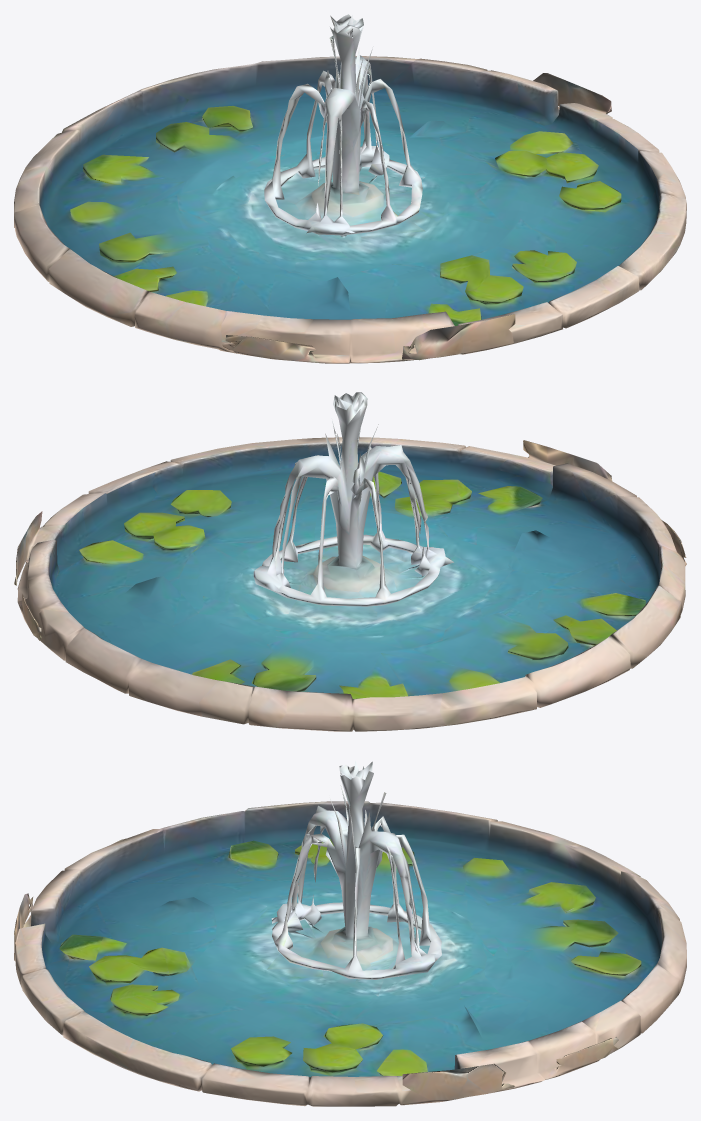
File: fountain.glb
3 renders of one model, top to bottom at view 1: azimuth 30°, elevation 25°; view 2: azimuth 150°, elevation 25°; view 3: azimuth 270°, elevation 25°, orthographic.
Visible parts, largest first — view 1: tripo_node_01a21c9d-1c94-76ef-8343-85539061eac6; view 2: tripo_node_01a21c9d-1c94-76ef-8343-85539061eac6; view 3: tripo_node_01a21c9d-1c94-76ef-8343-85539061eac6.
Part boxes in pixels (<box>): tripo_node_01a21c9d-1c94-76ef-8343-85539061eac6: <box>14,14,686,363</box>; tripo_node_01a21c9d-1c94-76ef-8343-85539061eac6: <box>14,392,686,731</box>; tripo_node_01a21c9d-1c94-76ef-8343-85539061eac6: <box>14,761,686,1106</box>.
Bounding box in the file's own units: 5.4 × 1.8 × 5.39.
Materials: 1 (1 with a texture image).
